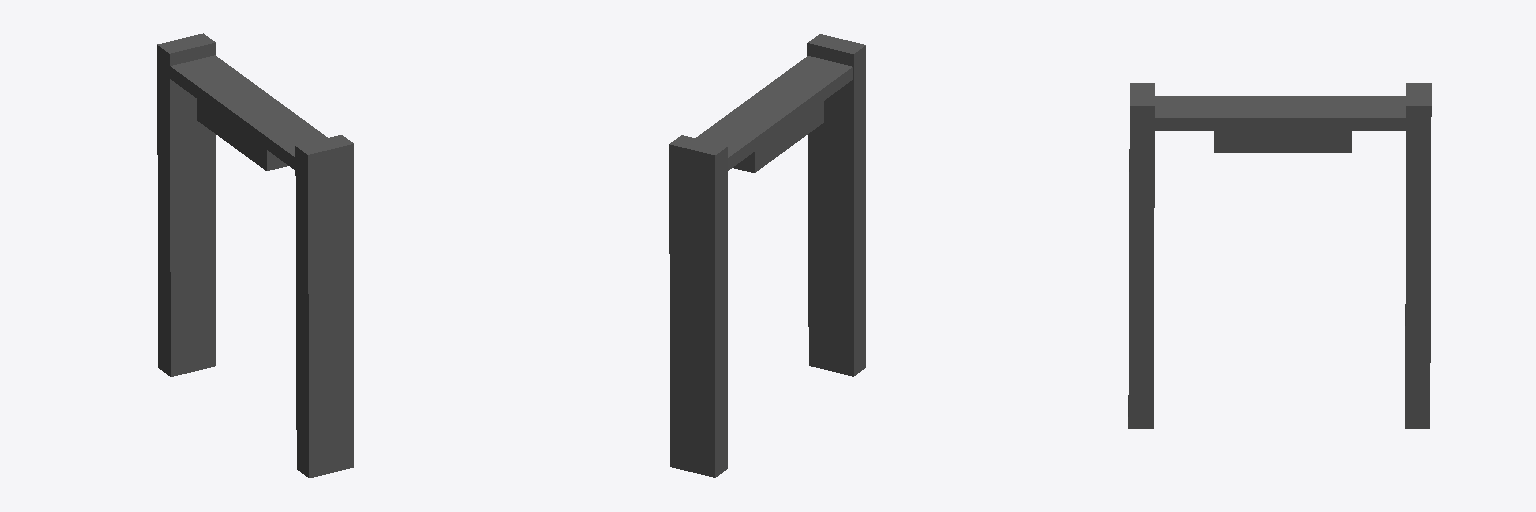
The model's file is storageCrane.obj.
3 renders of one model, left to right at view 1: azimuth 30°, elevation 25°; view 2: azimuth 150°, elevation 25°; view 3: azimuth 270°, elevation 25°, orthographic.
Parts seen in each view (by area): view 1: Crane_Cube.003; view 2: Crane_Cube.003; view 3: Crane_Cube.003.
Part boxes in pixels (x1,y1,x2,y2): Crane_Cube.003: (157, 33, 353, 477); Crane_Cube.003: (669, 34, 865, 477); Crane_Cube.003: (1128, 83, 1431, 428).
Bounding box in the file's own units: 3 × 20 × 17.